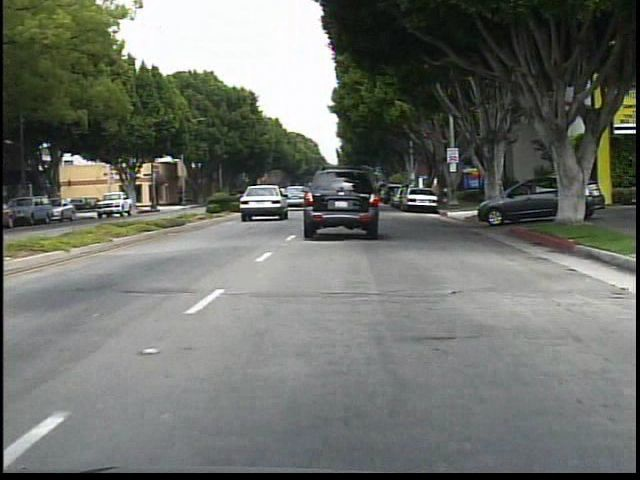person: (487, 170, 506, 210)
